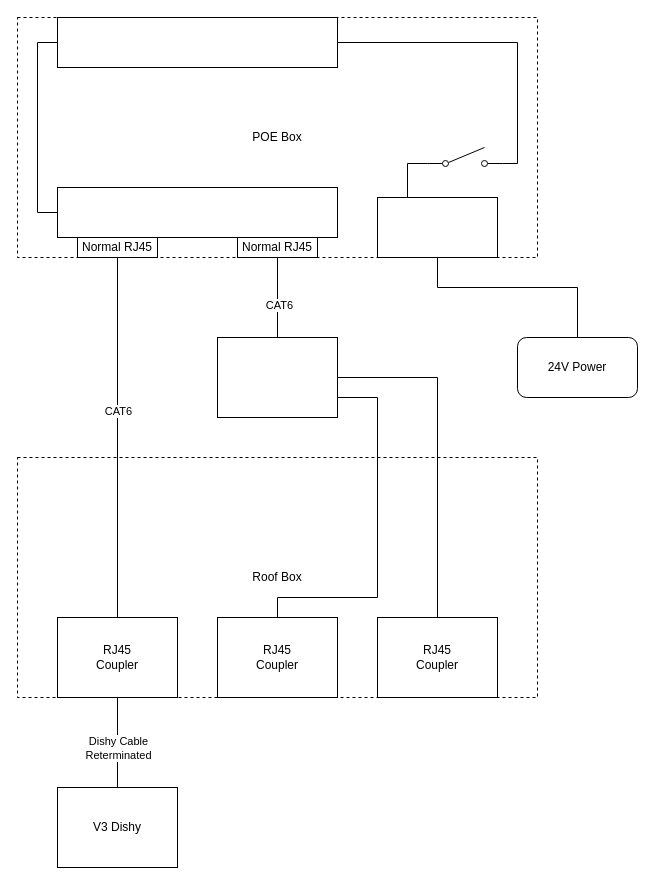
Image size: 655x885. Some labels were removed from this diagram. Here are the shapes that lost their labels. From the top down, the centre of each, then its label:
the point at 197,42: 24V-48V Converter
the point at 197,212: DishyPowa
the point at 437,227: Terminal Block
the point at 277,377: Router (WAN)
